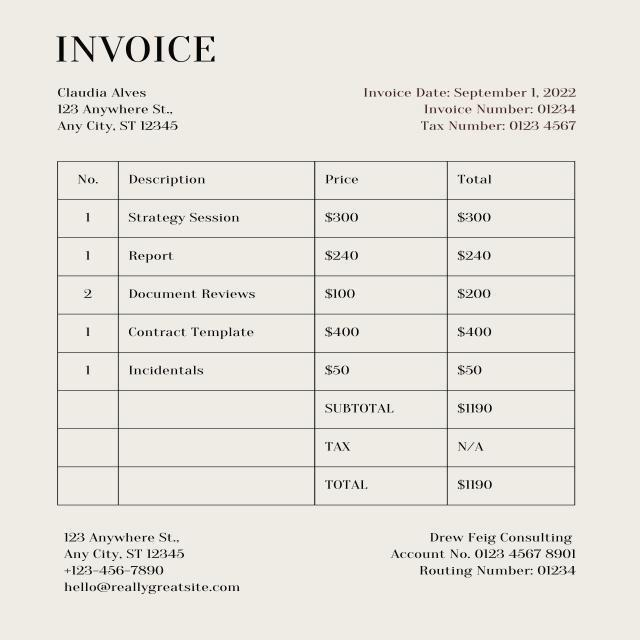paragraph: (301, 389, 592, 506), (56, 526, 252, 617), (389, 526, 583, 603), (358, 82, 603, 139), (46, 81, 201, 142), (44, 27, 243, 68)
table: (57, 154, 587, 381)
